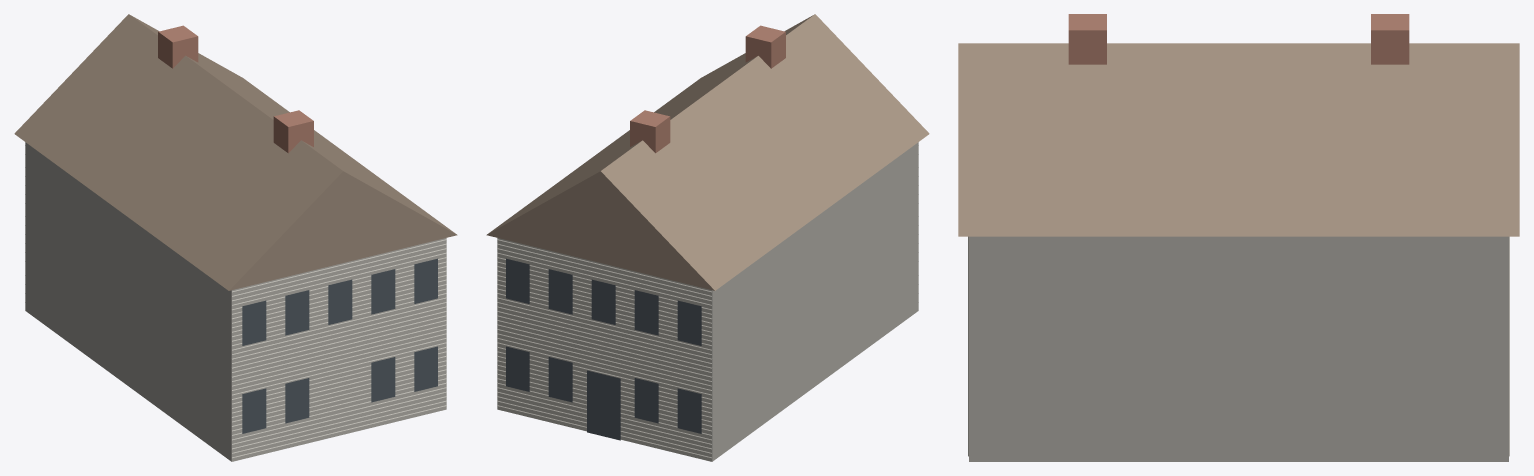
File: recon_1835_north_t1_028__inferred_1835.glb
3 views of the same model, side by side, from view 1: azimuth 30°, elevation 25°; view 2: azimuth 150°, elevation 25°; view 3: azimuth 270°, elevation 25° (orthographic). The views are drawn at different scales.
Visible parts, largest first — view 1: recon_1835_north_t1_028__inferred_1835; view 2: recon_1835_north_t1_028__inferred_1835; view 3: recon_1835_north_t1_028__inferred_1835.
Part boxes in pixels (box(x1,y1,x2,y2)): recon_1835_north_t1_028__inferred_1835: box(14, 14, 457, 461); recon_1835_north_t1_028__inferred_1835: box(486, 14, 929, 461); recon_1835_north_t1_028__inferred_1835: box(958, 14, 1519, 461).
Bounding box in the file's own units: 8.12 × 9.62 × 13.18.
